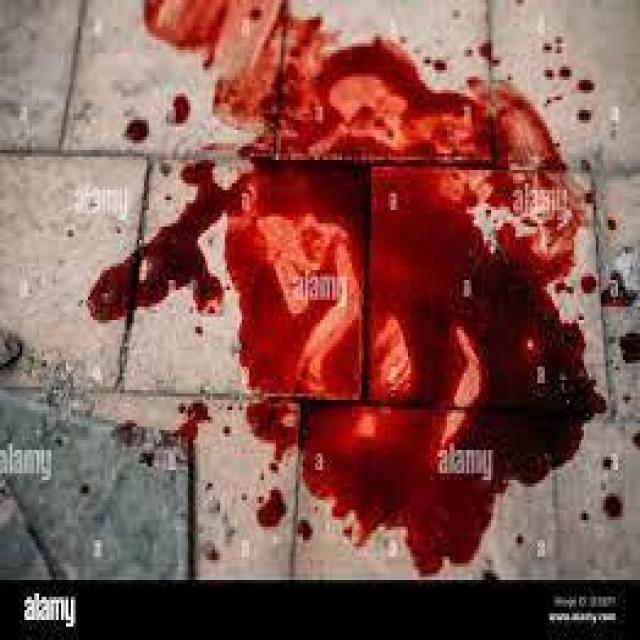flood: (456, 246, 604, 512)
